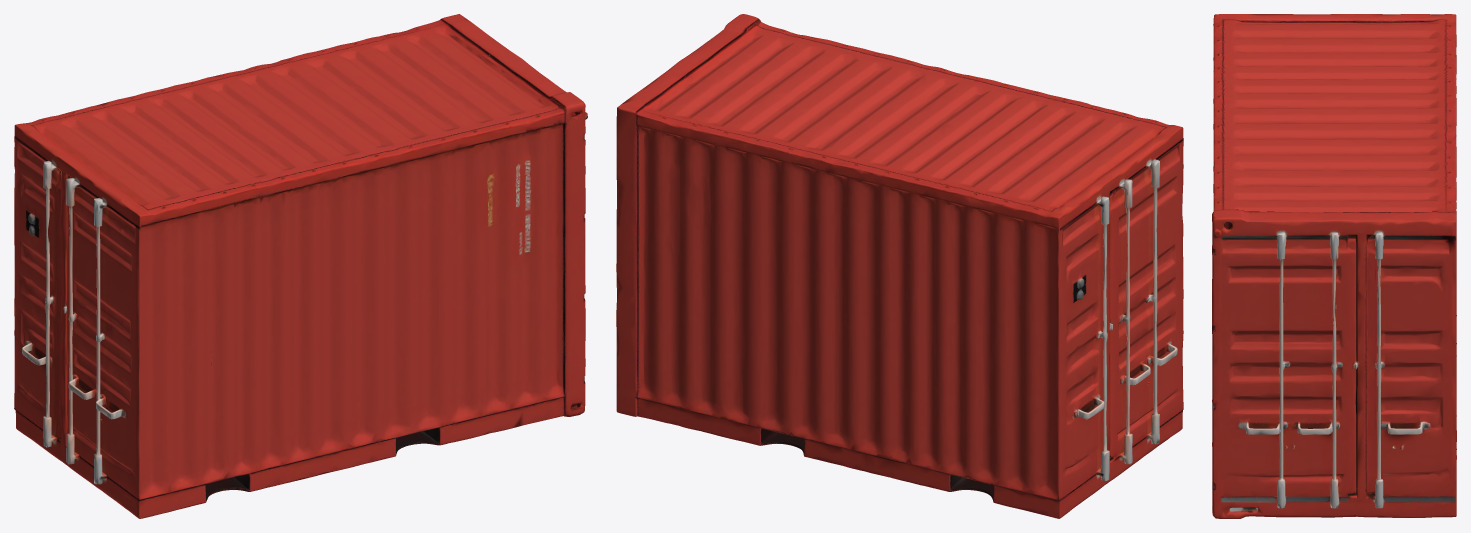
The model's file is cargocontainer3d.glb.
3 views of the same model, side by side, from view 1: azimuth 30°, elevation 25°; view 2: azimuth 150°, elevation 25°; view 3: azimuth 270°, elevation 25° (orthographic). The views are drawn at different scales.
Parts seen in each view (by area): view 1: tripo_node_f6938428-dd14-408f-aa67-476e2b00364f; view 2: tripo_node_f6938428-dd14-408f-aa67-476e2b00364f; view 3: tripo_node_f6938428-dd14-408f-aa67-476e2b00364f.
Boxes of the visible parts, bbox=[...] form: tripo_node_f6938428-dd14-408f-aa67-476e2b00364f: bbox=[14, 14, 587, 518]; tripo_node_f6938428-dd14-408f-aa67-476e2b00364f: bbox=[616, 14, 1183, 518]; tripo_node_f6938428-dd14-408f-aa67-476e2b00364f: bbox=[1212, 14, 1456, 518].
Size of the model in its own units: 1 by 0.6371 by 0.469.
Materials: 1 (1 with a texture image).
